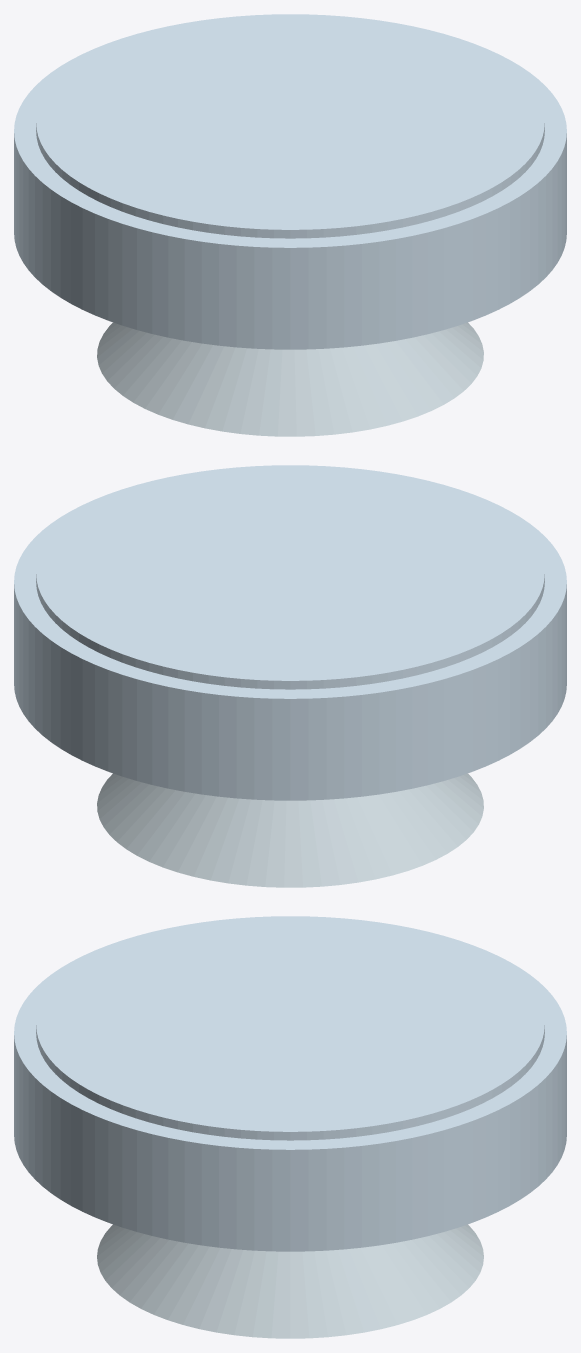
Rendered from 03_wolkenwerk.glb.
3 renders of one model, top to bottom at view 1: azimuth 30°, elevation 25°; view 2: azimuth 150°, elevation 25°; view 3: azimuth 270°, elevation 25°, orthographic.
Visible parts, largest first — view 1: GrassTop, Island, IslandDrip; view 2: GrassTop, Island, IslandDrip; view 3: GrassTop, Island, IslandDrip.
Part boxes in pixels (left/top/right/bottom): GrassTop: left=36, top=15, right=544, bottom=238; Island: left=14, top=14, right=566, bottom=349; IslandDrip: left=97, top=322, right=483, bottom=436; GrassTop: left=36, top=466, right=544, bottom=689; Island: left=14, top=465, right=566, bottom=800; IslandDrip: left=97, top=773, right=483, bottom=887; GrassTop: left=36, top=917, right=544, bottom=1140; Island: left=14, top=916, right=566, bottom=1251; IslandDrip: left=97, top=1224, right=483, bottom=1338.
Size of the model in its own units: 6.4 by 2.97 by 6.4.
